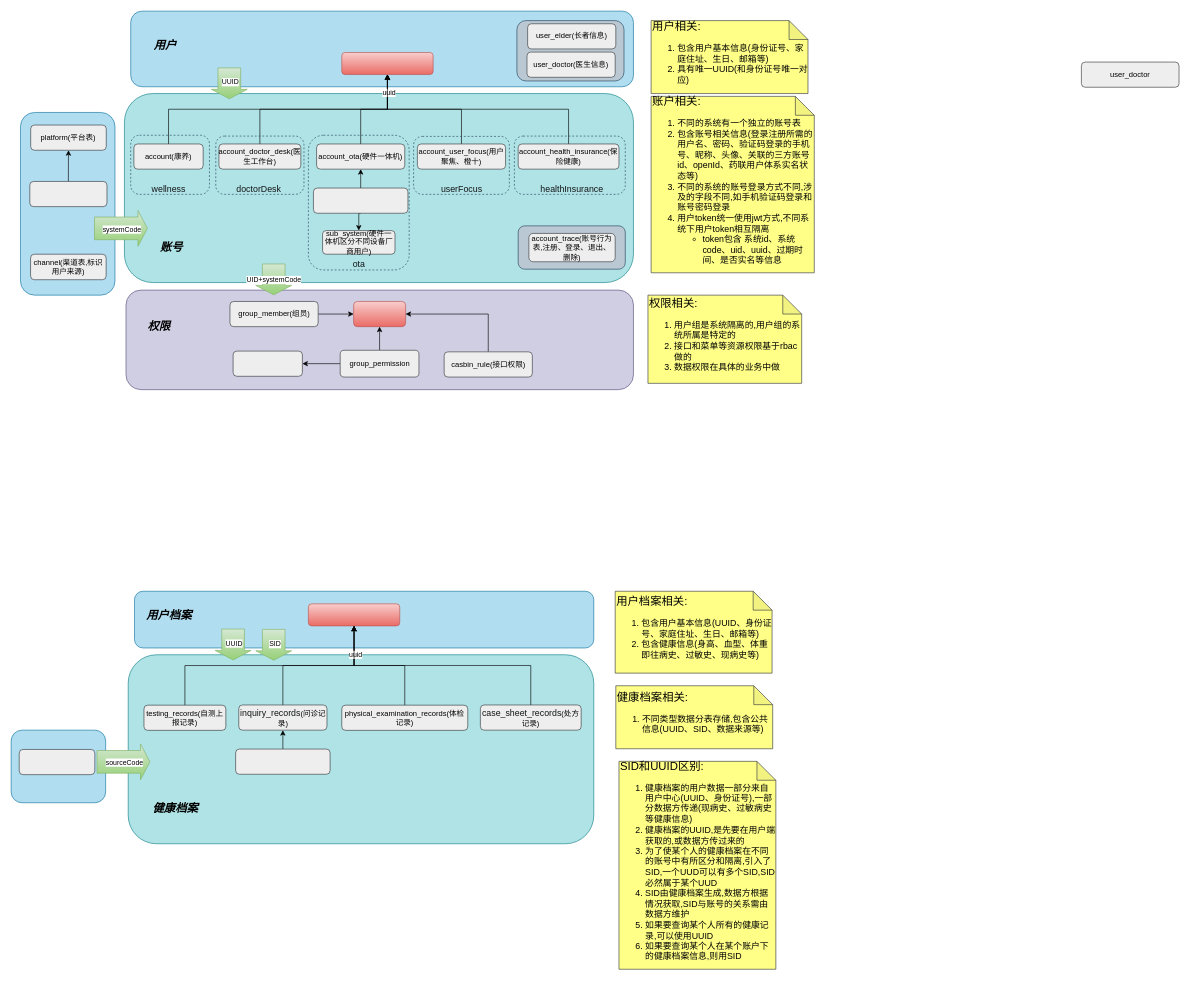
Image size: 1190x982. Some labels were removed from this diagram. Each missing label, with the box of its shape:
account_ota_sub_info(子系统关联信息:实名状态等): (313, 187, 408, 213)
group(用户组,系统隔离): (353, 301, 406, 327)
inquiry_detail (问诊抵拒详情): (235, 748, 330, 774)
resource(菜单等资源): (232, 350, 302, 376)
source (数据来源表): (19, 749, 95, 775)
system(系统表): (29, 181, 107, 207)
user(健康档案的用户健康基本信息): (308, 603, 400, 626)
user(用户表 基本信息): (341, 52, 433, 75)
